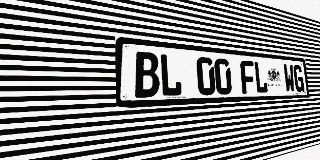0: (196, 56, 216, 95), (214, 58, 232, 95)
B: (134, 51, 160, 98)
F: (240, 60, 256, 94)
G: (293, 65, 305, 92)
L: (159, 53, 182, 97), (254, 61, 268, 94)
W: (283, 64, 295, 93)
